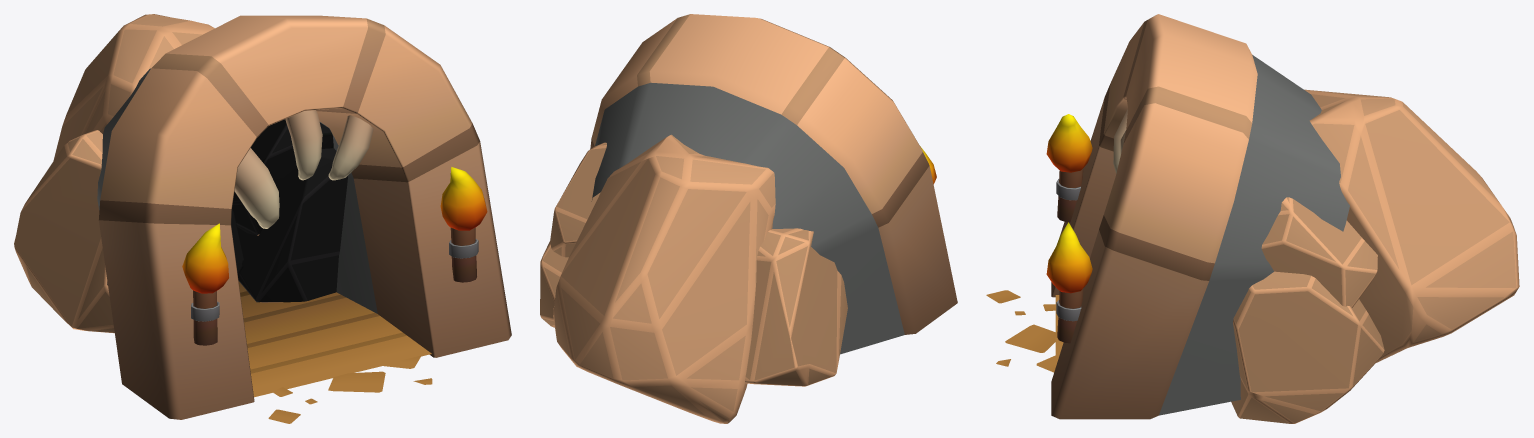
Rendered from CageDoor_1.fbx.
The picture shows the model from 3 angles, left to right: view 1: azimuth 30°, elevation 25°; view 2: azimuth 150°, elevation 25°; view 3: azimuth 270°, elevation 25°; orthographic projection. The views are drawn at different scales.
Visible parts, largest first — view 1: CageDoor_1; view 2: CageDoor_1; view 3: CageDoor_1.
Part boxes in pixels (x1=…): CageDoor_1: x1=14, y1=14, x2=511, y2=423; CageDoor_1: x1=540, y1=14, x2=957, y2=423; CageDoor_1: x1=986, y1=14, x2=1519, y2=423.
Size of the model in its own units: 237 by 232 by 333.
